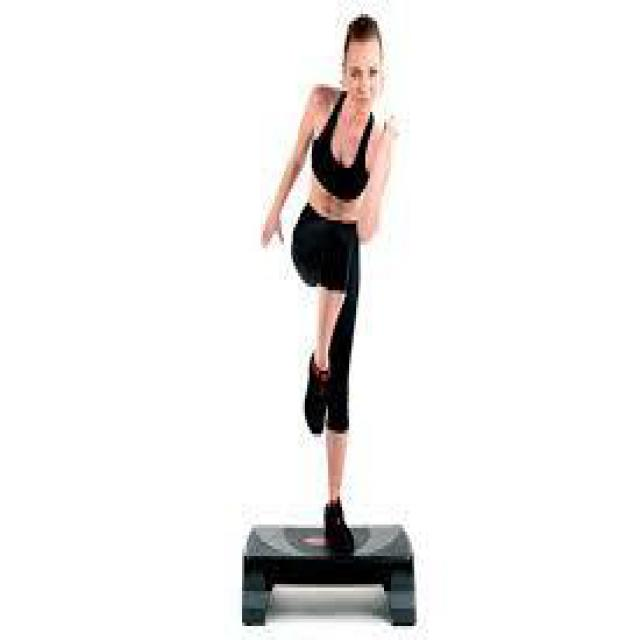Step: (224, 496, 431, 636)
